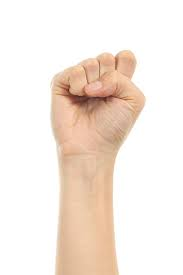fist: (46, 48, 148, 156)
